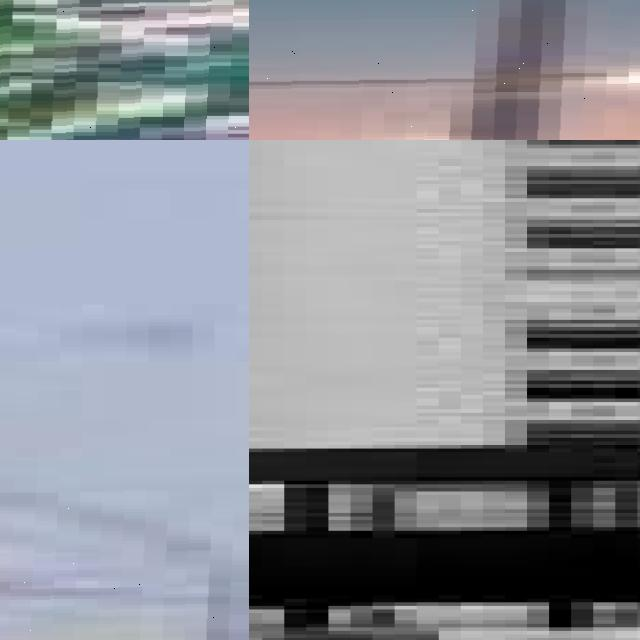street light: (249, 0, 640, 140), (0, 458, 249, 640), (0, 0, 249, 140), (249, 85, 640, 140)
